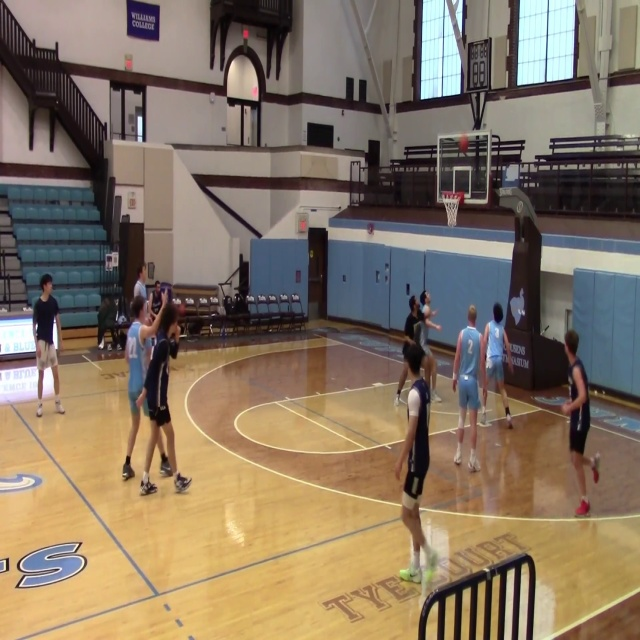Basketball: (458, 135, 468, 152), (177, 303, 186, 317), (421, 304, 430, 315)
